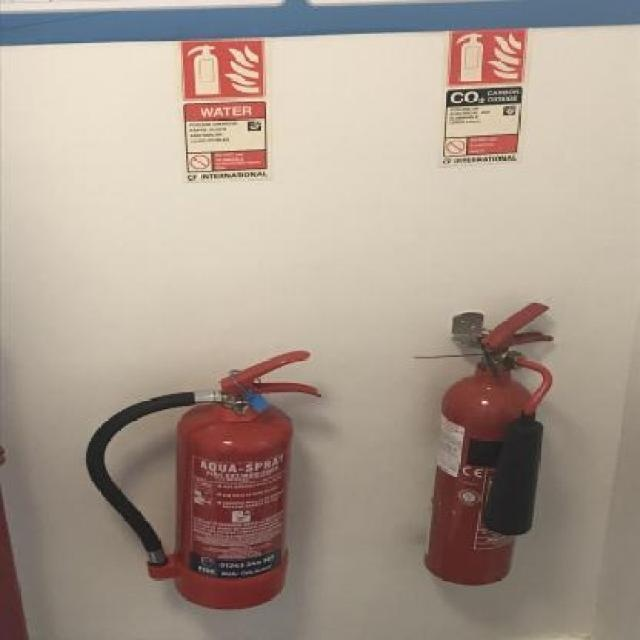fire extinguisher: (84, 350, 322, 610), (419, 301, 558, 584)
